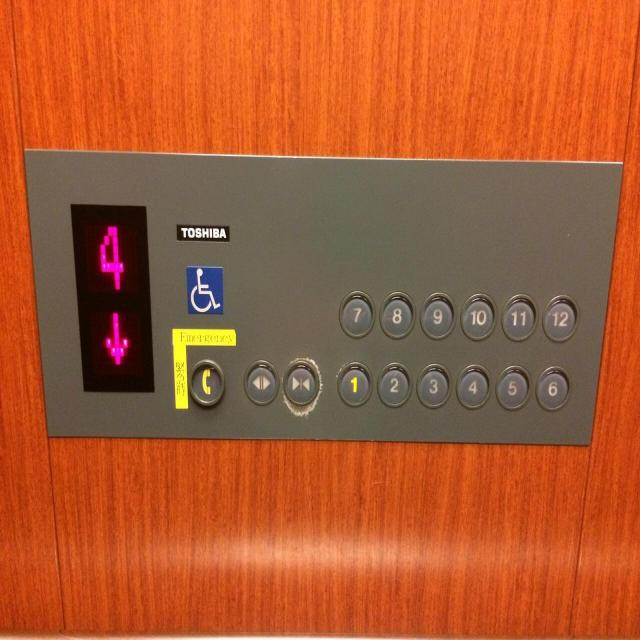1: (335, 360, 373, 408)
10: (459, 290, 497, 340)
11: (501, 292, 538, 341)
12: (542, 294, 579, 342)
2: (376, 359, 412, 407)
3: (415, 361, 453, 409)
4: (454, 362, 492, 409)
5: (494, 363, 532, 410)
6: (534, 364, 572, 411)
7: (338, 288, 376, 338)
8: (378, 290, 416, 339)
9: (419, 291, 455, 339)
CH: (185, 265, 225, 315)
call: (187, 357, 226, 407)
close: (282, 358, 320, 406)
led: (70, 204, 154, 394)
open: (243, 358, 279, 406)
